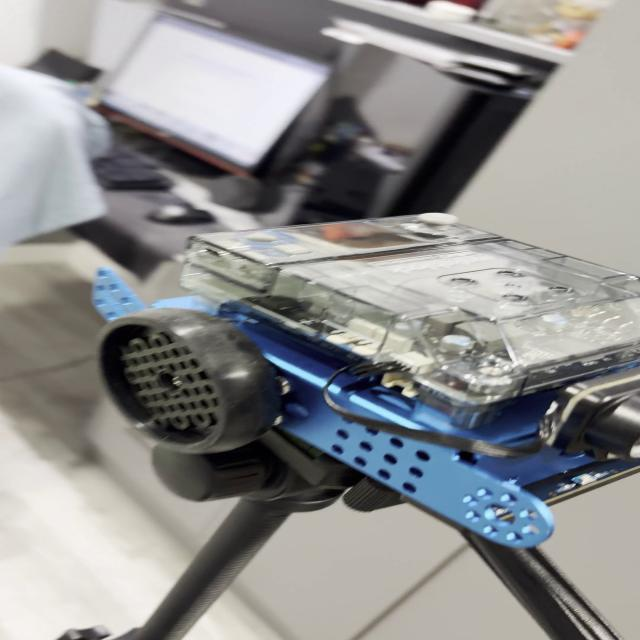mbot-detection: (86, 207, 640, 555)
